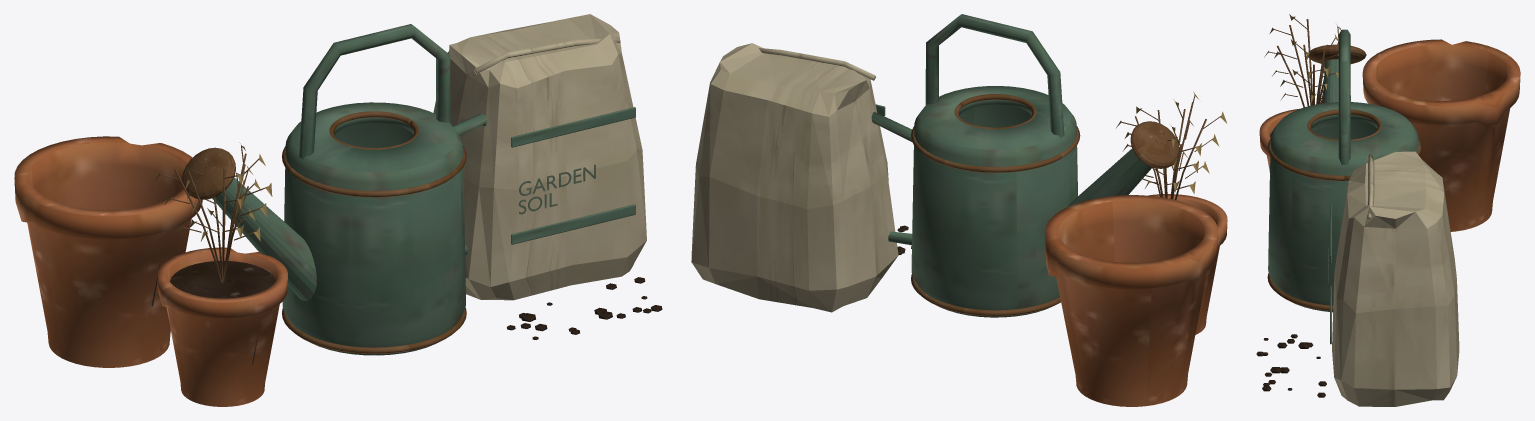
File: by_garden_cluster.glb
3 renders of one model, left to right at view 1: azimuth 30°, elevation 25°; view 2: azimuth 150°, elevation 25°; view 3: azimuth 270°, elevation 25°, orthographic. The views are drawn at different scales.
Parts seen in each view (by area): view 1: by_garden_cluster; view 2: by_garden_cluster; view 3: by_garden_cluster.
Part boxes in pixels (bbox=[...]): by_garden_cluster: bbox=[14, 14, 662, 406]; by_garden_cluster: bbox=[691, 14, 1227, 406]; by_garden_cluster: bbox=[1256, 14, 1520, 406].
Bounding box in the file's own units: 1.07 × 0.5472 × 0.5178.
1 material, 1 textured.
